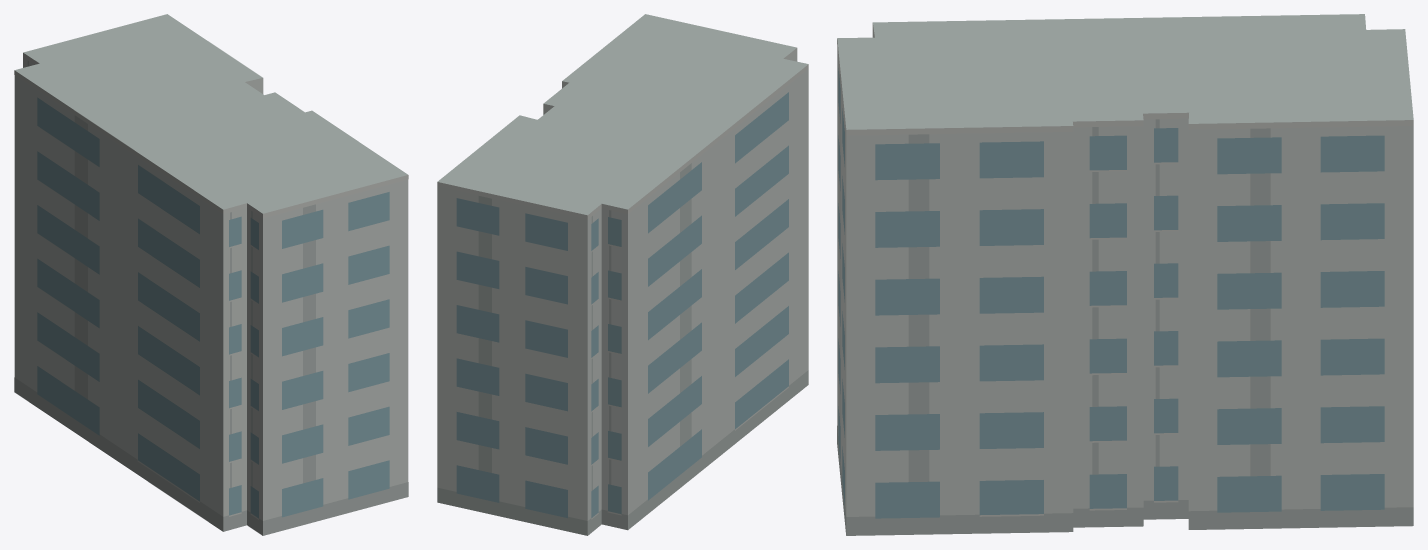
The model's file is survey-upis-32703168.glb.
3 renders of one model, left to right at view 1: azimuth 30°, elevation 25°; view 2: azimuth 150°, elevation 25°; view 3: azimuth 270°, elevation 25°, orthographic. The views are drawn at different scales.
Parts seen in each view (by area): view 1: survey-upis-32703168.tmp; view 2: survey-upis-32703168.tmp; view 3: survey-upis-32703168.tmp.
Boxes of the visible parts, x1,y1,x2,y2 form: survey-upis-32703168.tmp: (14,14,408,535); survey-upis-32703168.tmp: (437,14,808,535); survey-upis-32703168.tmp: (837,14,1413,535).
Size of the model in its own units: 10.29 by 16.8 by 21.63.
